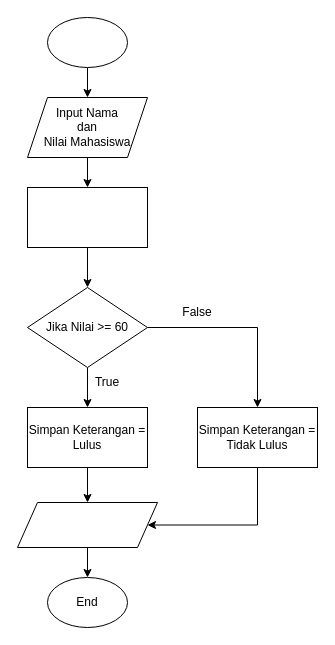
Some shapes in this 335 by 645 pixel diagram are drawn without their labels. Here are the shapes that lost their labels. From the top down, the box of each, then its label:
(46, 16, 128, 68): Start
(26, 186, 148, 248): Simpan Nama dan Nilai Mahasiswa
(16, 502, 158, 548): Output Nama dan Keterangan
